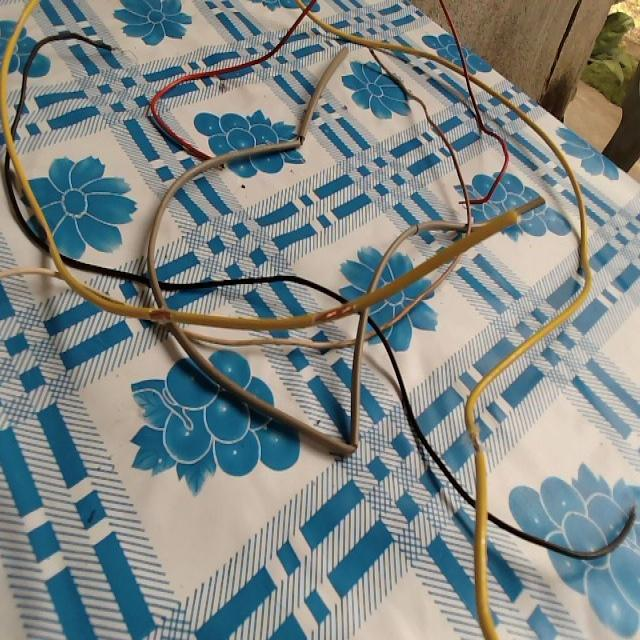-: (315, 302, 357, 322), (467, 424, 484, 461), (145, 304, 174, 323), (104, 40, 124, 60), (295, 132, 304, 149)
